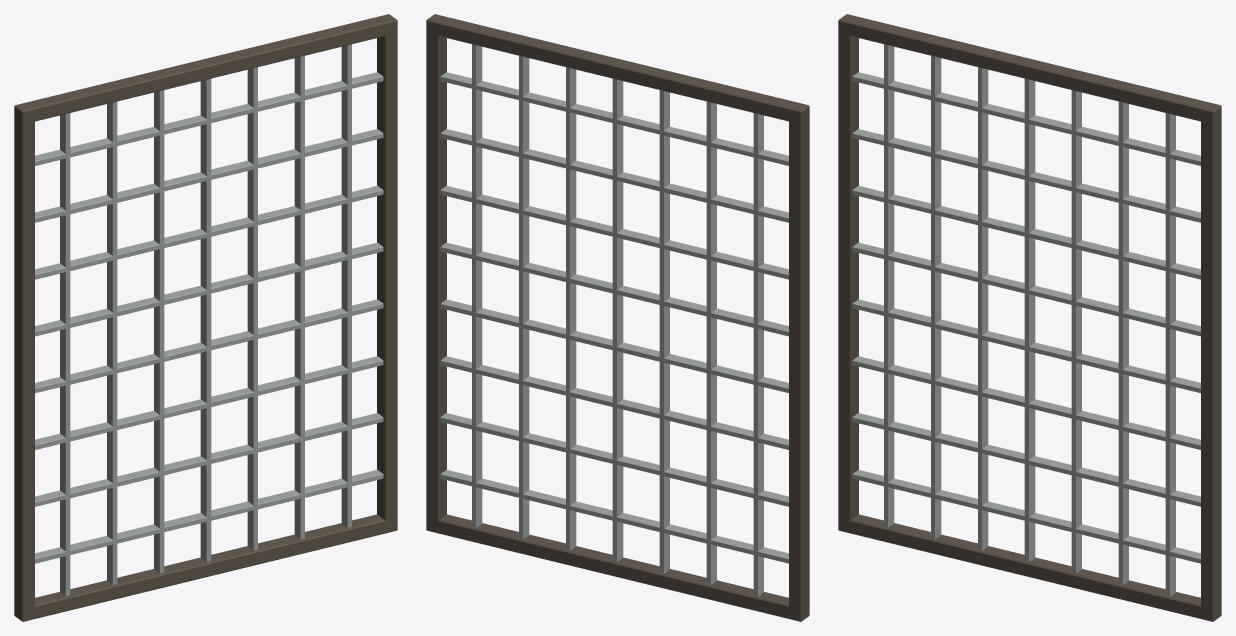
The model's file is MW_CAGE_PANEL_LODs.fbx.
3 renders of one model, left to right at view 1: azimuth 30°, elevation 25°; view 2: azimuth 150°, elevation 25°; view 3: azimuth 330°, elevation 25°, orthographic.
Parts seen in each view (by area): view 1: MW_CAGE_PANEL_LOD0; view 2: MW_CAGE_PANEL_LOD0; view 3: MW_CAGE_PANEL_LOD0.
Boxes of the visible parts, x1,y1,x2,y2 form: MW_CAGE_PANEL_LOD0: (14, 14, 397, 621); MW_CAGE_PANEL_LOD0: (426, 14, 809, 621); MW_CAGE_PANEL_LOD0: (838, 14, 1221, 621).
Size of what is drawn, in the model's own units: 2 by 2.6 by 0.08.
